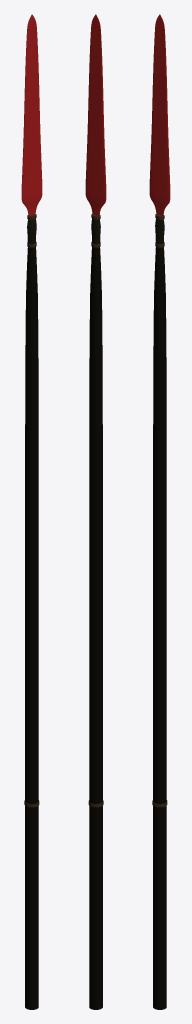
File: spear.obj
The picture shows the model from 3 angles, left to right: view 1: azimuth 30°, elevation 25°; view 2: azimuth 150°, elevation 25°; view 3: azimuth 330°, elevation 25°; orthographic projection.
Visible parts, largest first — view 1: Cylinder001, Box001, Cylinder002, Box002; view 2: Cylinder001, Box001, Cylinder002, Box002; view 3: Cylinder001, Box001, Cylinder002, Box002.
Part boxes in pixels (x1,y1,x2,y2): Cylinder001: (25, 424, 38, 1009); Box001: (21, 14, 42, 215); Cylinder002: (25, 247, 38, 427); Box002: (27, 219, 36, 244); Cylinder001: (89, 424, 102, 1009); Box001: (85, 14, 106, 215); Cylinder002: (89, 247, 102, 427); Box002: (91, 219, 100, 244); Cylinder001: (153, 424, 166, 1009); Box001: (149, 14, 170, 215); Cylinder002: (153, 242, 166, 427); Box002: (155, 219, 164, 244).
Size of the model in its own units: 1.96 by 88.61 by 1.21.
